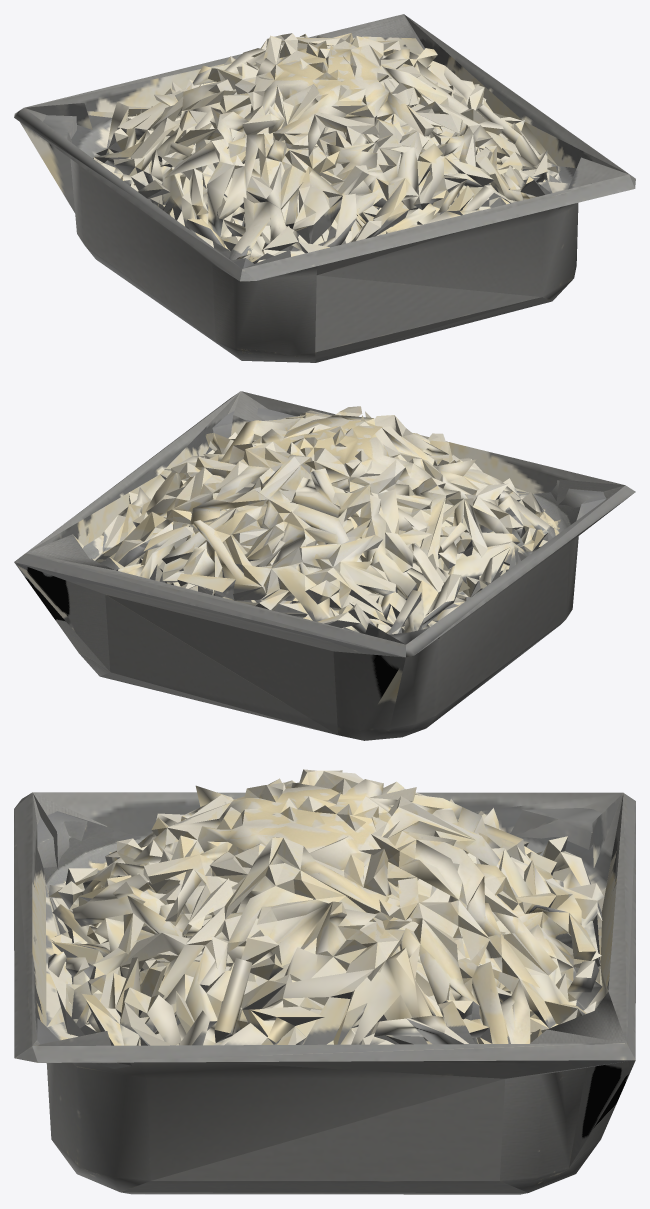
Rendered from Meshy_AI_Shredded_Cheese_Tray_0831085538_texture.fbx.
The picture shows the model from 3 angles, top to bottom: view 1: azimuth 30°, elevation 25°; view 2: azimuth 150°, elevation 25°; view 3: azimuth 270°, elevation 25°; orthographic projection. The views are drawn at different scales.
Parts seen in each view (by area): view 1: output_unwrapped; view 2: output_unwrapped; view 3: output_unwrapped.
Boxes of the visible parts, x1,y1,x2,y2 form: output_unwrapped: (14,14,635,362); output_unwrapped: (14,391,635,740); output_unwrapped: (14,769,635,1194).
Size of the model in its own units: 190 by 97.52 by 188.
Materials: 1 (1 with a texture image).
